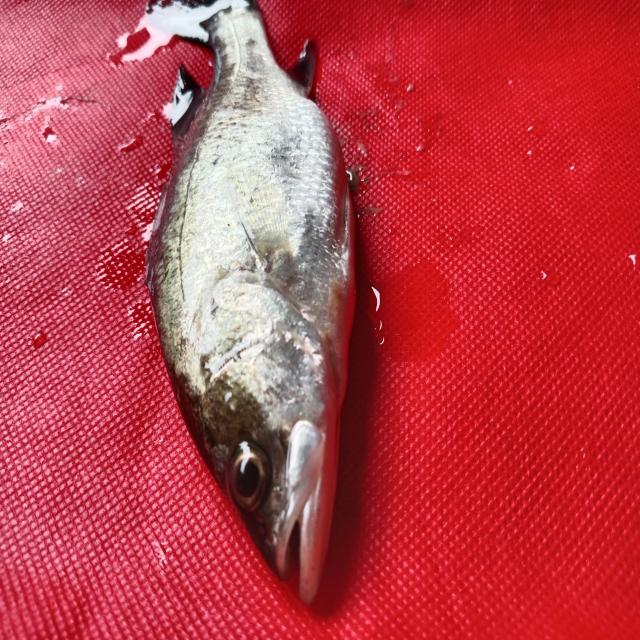ikan: (124, 6, 365, 619)
